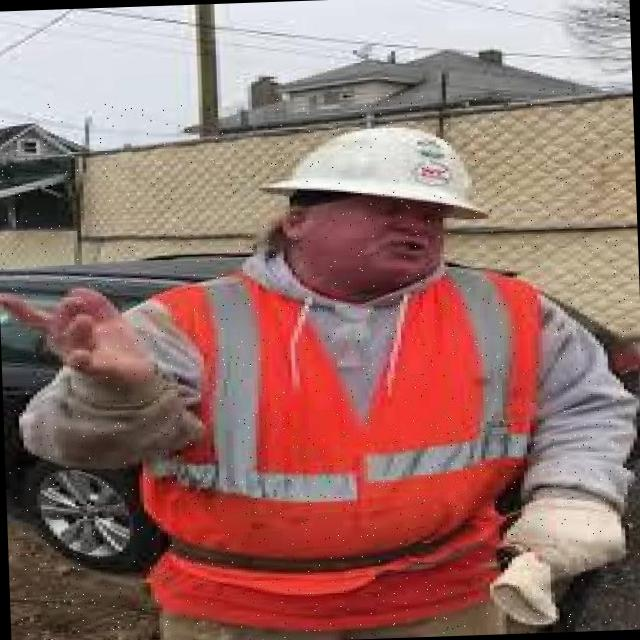gloves: (489, 488, 627, 627)
hard-hat: (258, 124, 489, 220)
person: (1, 124, 639, 639)
vest: (15, 252, 637, 635)
